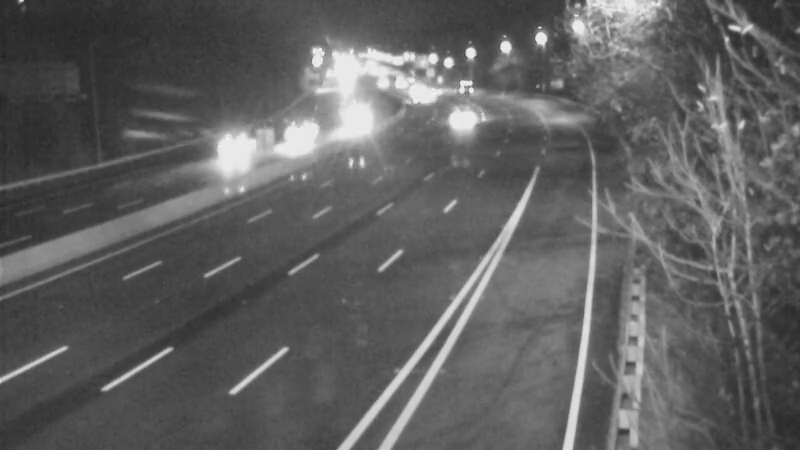vehicle: (437, 58, 487, 108), (437, 92, 487, 142), (190, 123, 240, 173), (275, 110, 325, 160), (336, 92, 386, 142)
